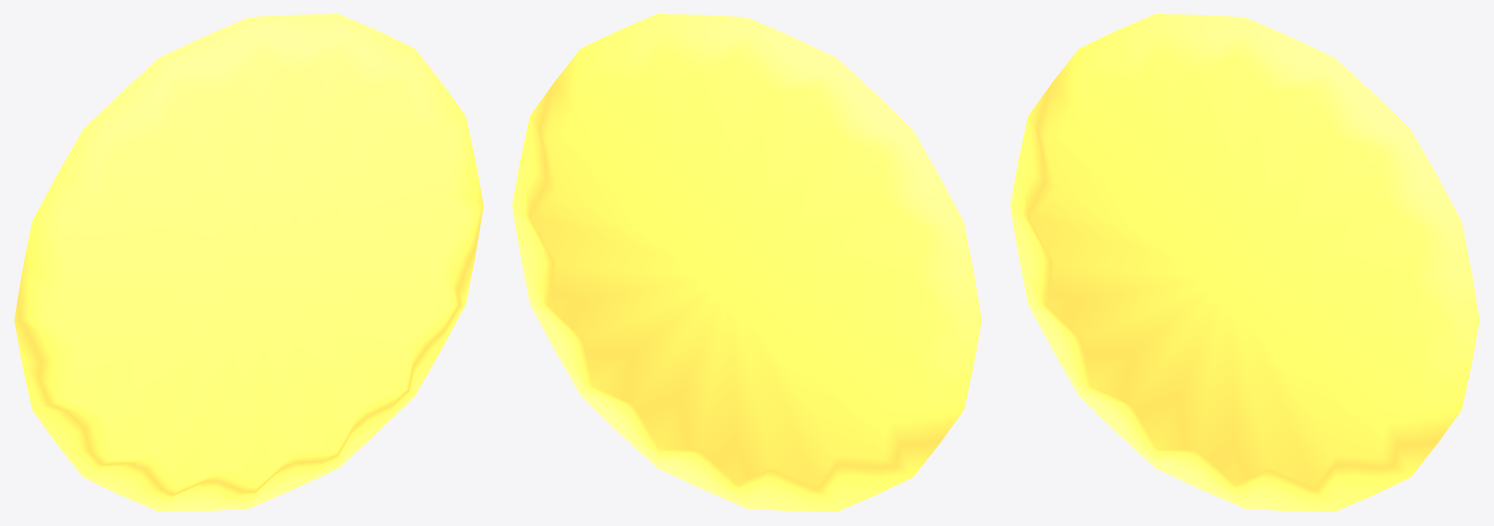
File: coin.glb
3 views of the same model, side by side, from view 1: azimuth 30°, elevation 25°; view 2: azimuth 150°, elevation 25°; view 3: azimuth 330°, elevation 25° (orthographic).
Parts seen in each view (by area): view 1: Coin; view 2: Coin; view 3: Coin.
Part boxes in pixels (x1,y1,x2,y2): Coin: (14,14,483,511); Coin: (512,14,981,511); Coin: (1010,14,1479,511).
Size of the model in its own units: 0.4425 by 0.4425 by 0.0559.
Materials: 1 (1 with a texture image).
